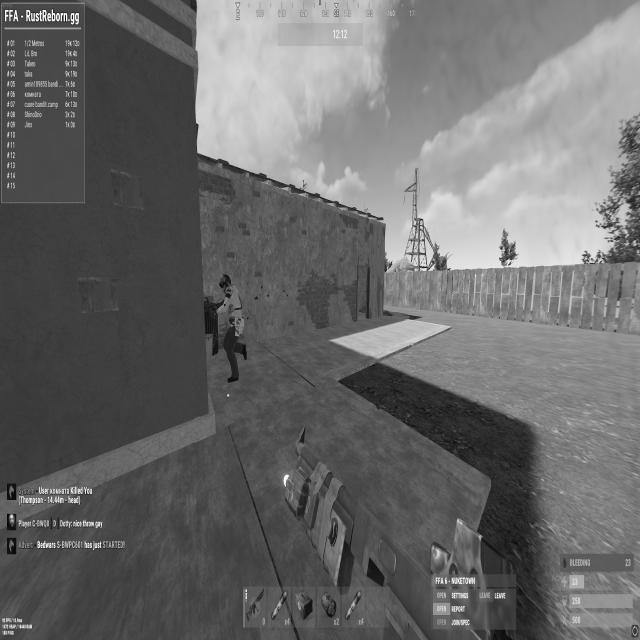Player: (206, 272, 248, 383), (220, 276, 232, 294)
